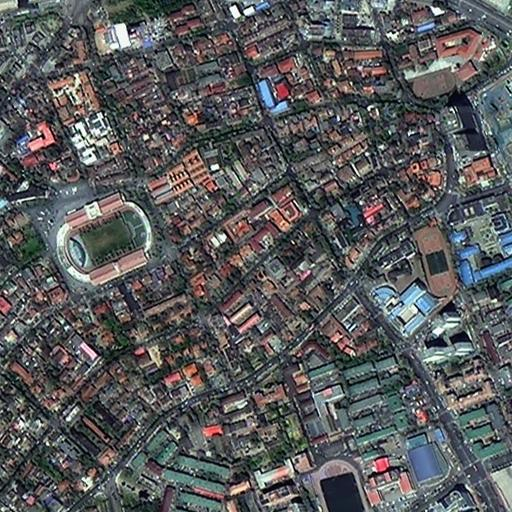school: (351, 219, 459, 344), (384, 21, 494, 101)
